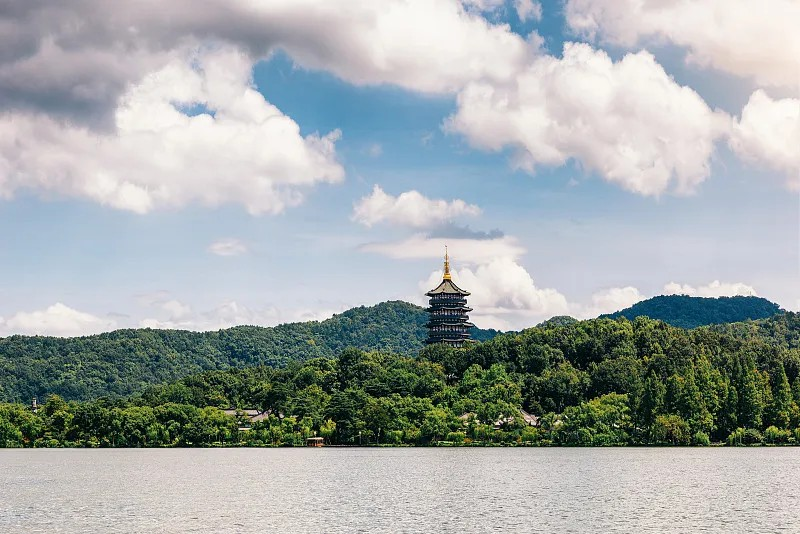Leifeng: (420, 244, 475, 352)
